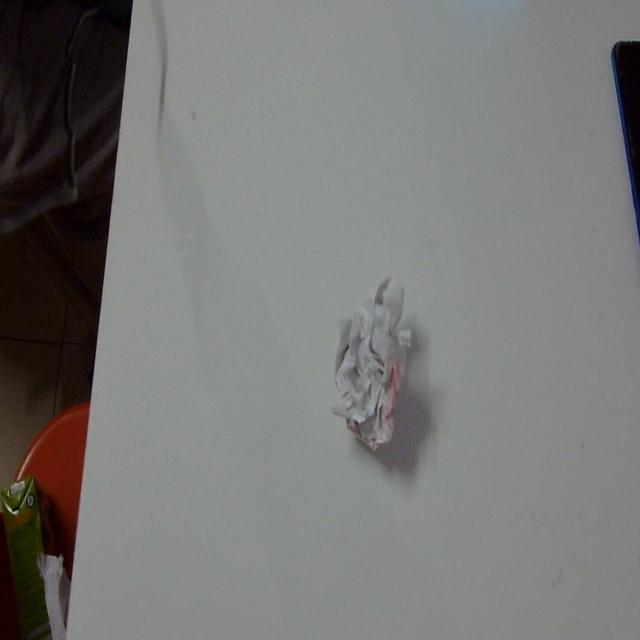paperrotation: (330, 266, 420, 460)
